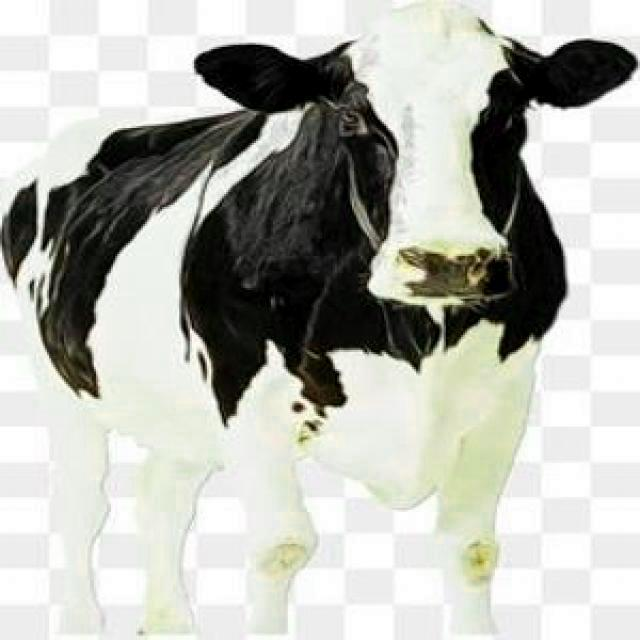COW: (0, 2, 636, 640)
